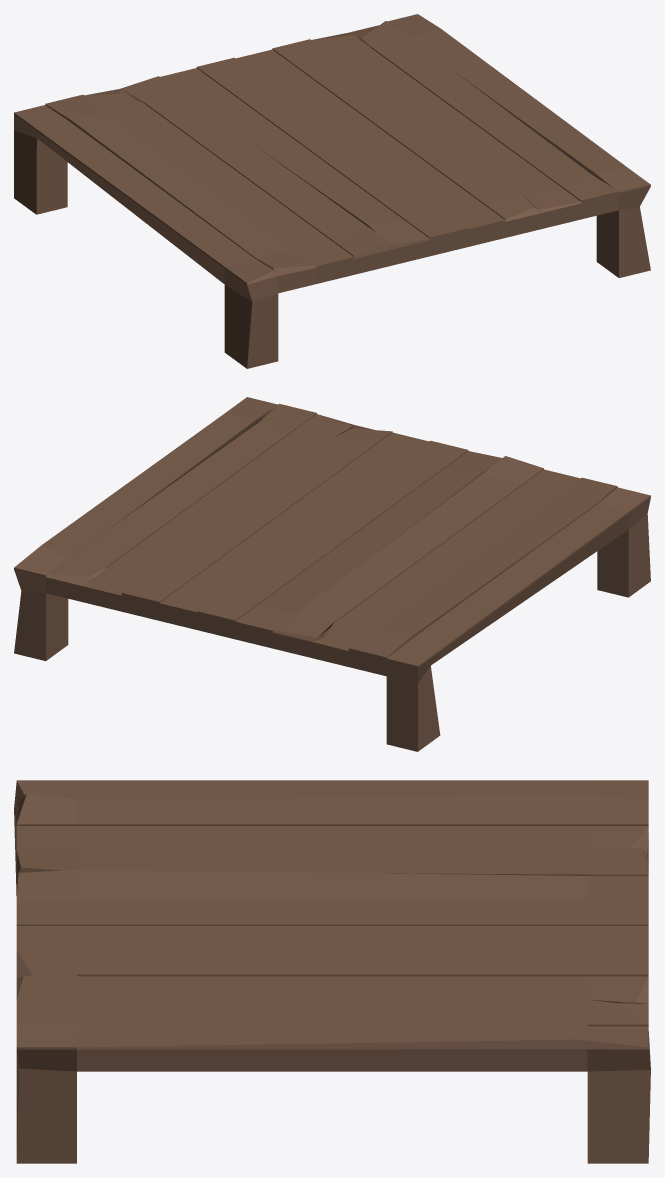
File: grand-table.obj
3 renders of one model, top to bottom at view 1: azimuth 30°, elevation 25°; view 2: azimuth 150°, elevation 25°; view 3: azimuth 270°, elevation 25°, orthographic. The views are drawn at different scales.
Visible parts, largest first — view 1: grand-table; view 2: grand-table; view 3: grand-table.
Part boxes in pixels (x1,y1,x2,y2): grand-table: (14,14,650,368); grand-table: (14,397,650,751); grand-table: (14,780,650,1163).
Bounding box in the file's own units: 0.7896 × 0.1711 × 0.7956.
